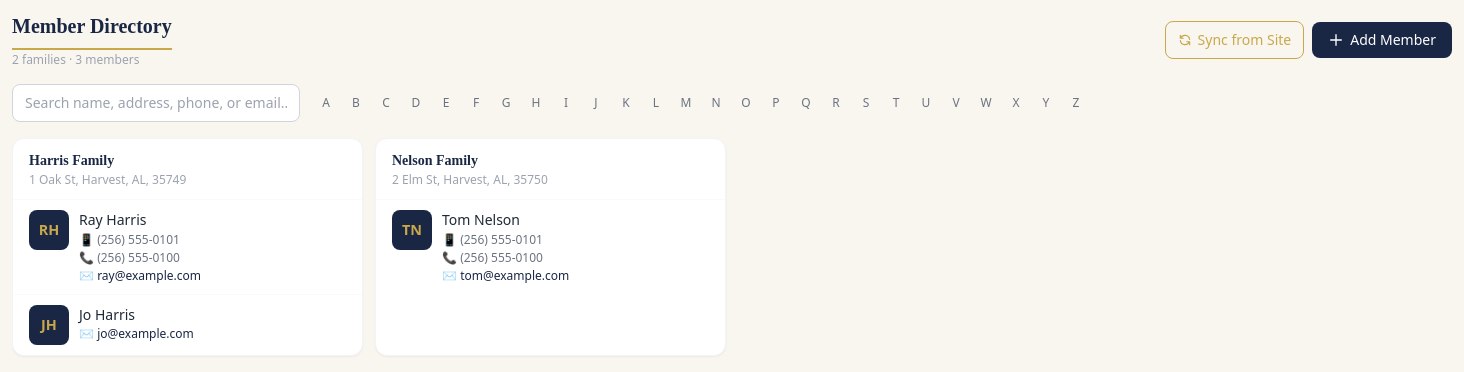
DirectoryView — finding somebody › clicking the same letter again clears it
Expected: the heading "Harris Family" is shown, [29,153,114,168]
Click the button "N".
click(716, 103)  # box [702,89,730,117]
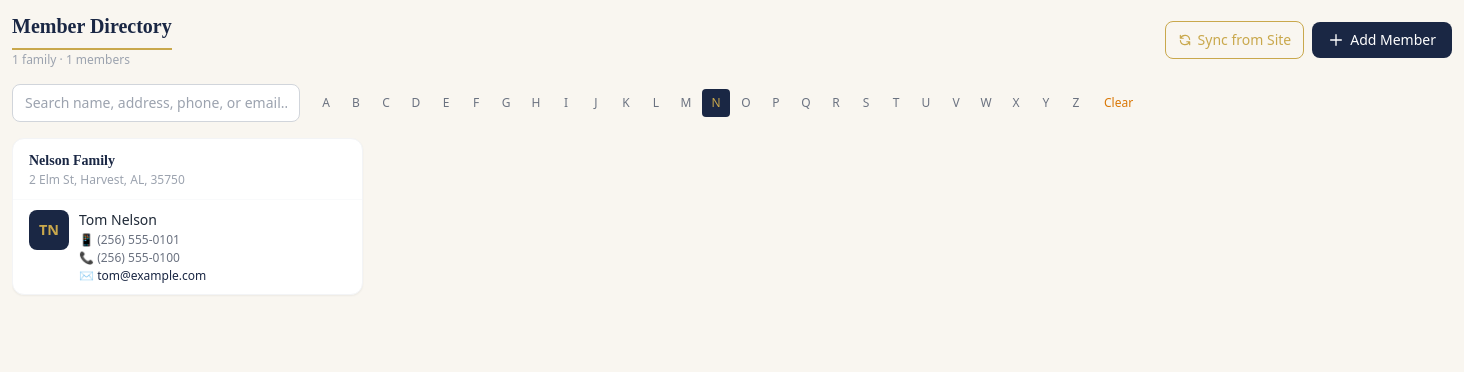
Result: the heading "Harris Family" is gone
Click the button "N".
click(716, 103)  # box [702,89,730,117]
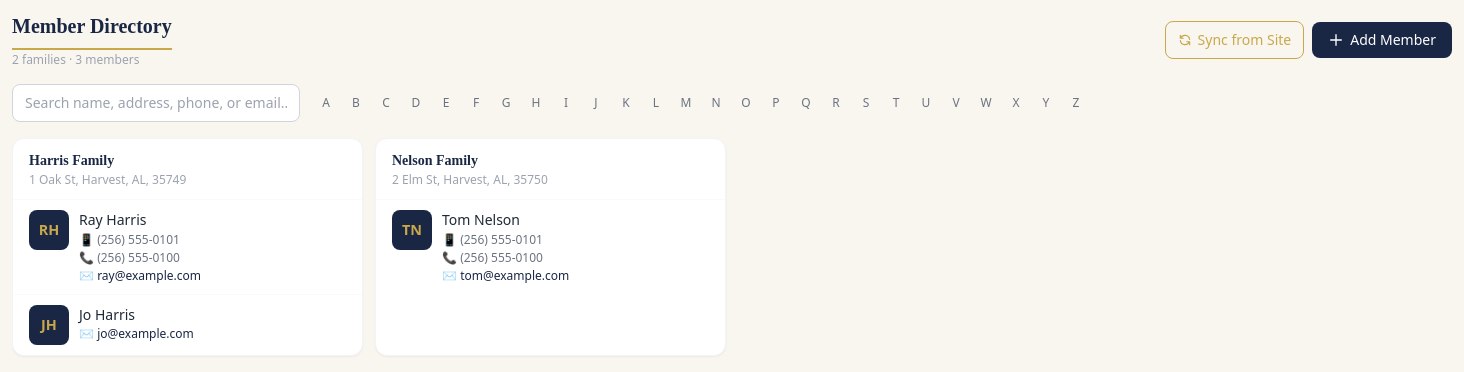
Result: the heading "Harris Family" is shown at [29,153,114,168]
